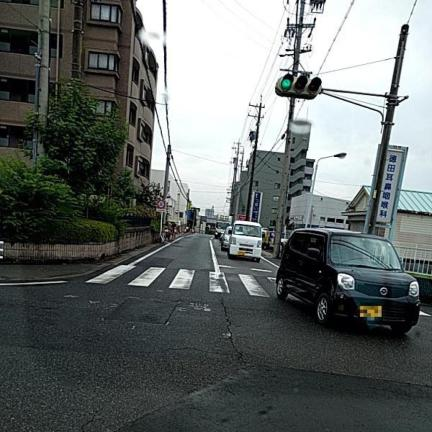Road: (0, 235, 431, 431)
